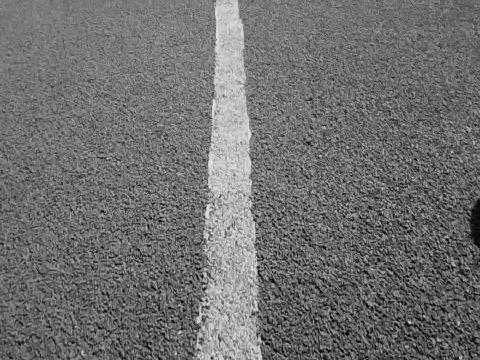Lines: (198, 0, 266, 360)
